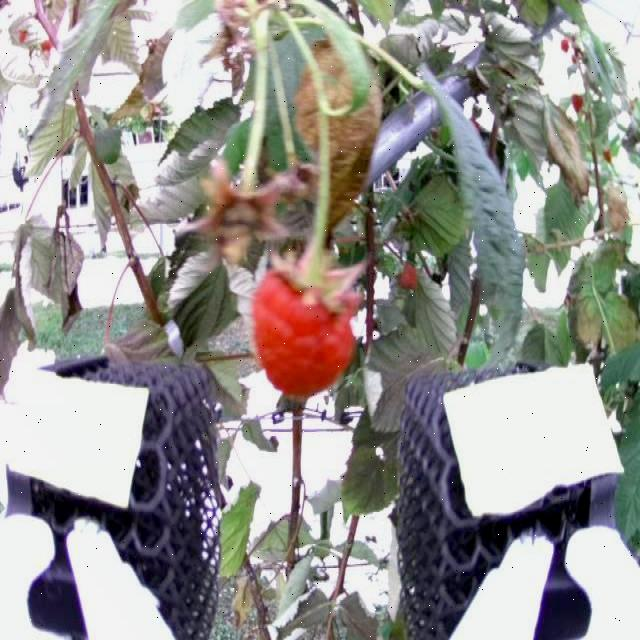Riped berries: (248, 241, 363, 390)
